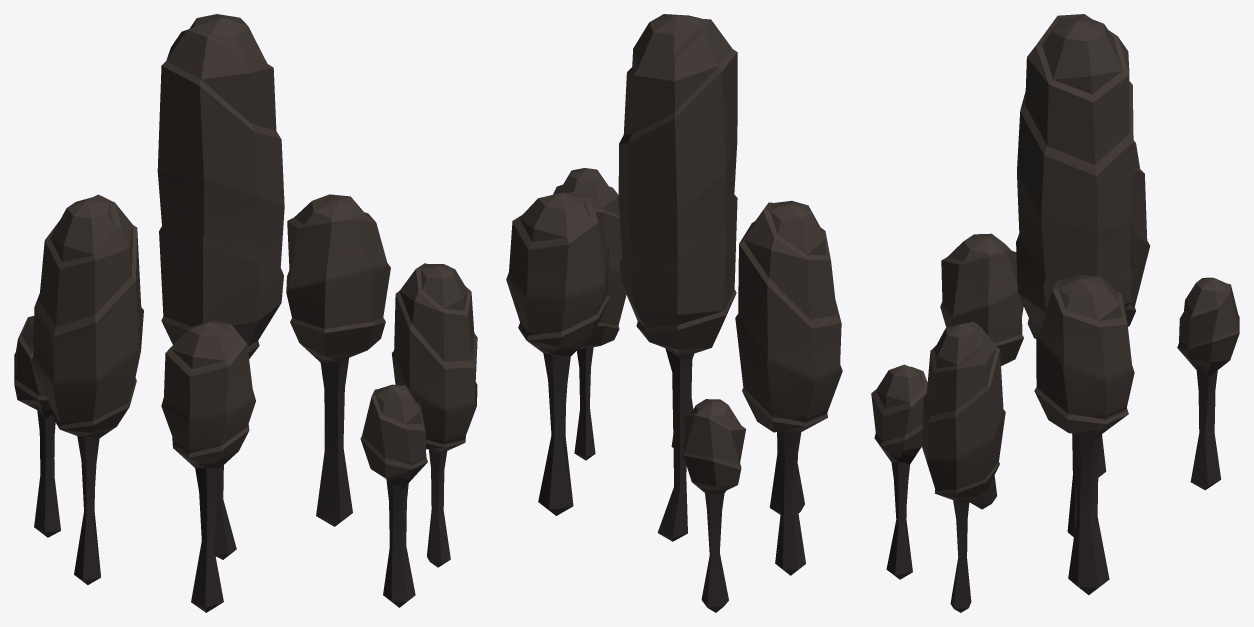
The model's file is worlds_SM_Env_Plant_Large_Spiral_Preset_03.gltf.
The picture shows the model from 3 angles, left to right: view 1: azimuth 30°, elevation 25°; view 2: azimuth 150°, elevation 25°; view 3: azimuth 270°, elevation 25°; orthographic projection. The views are drawn at different scales.
Parts seen in each view (by area): view 1: SM_Env_Plant_Large_Spiral_Preset_03; view 2: SM_Env_Plant_Large_Spiral_Preset_03; view 3: SM_Env_Plant_Large_Spiral_Preset_03.
Boxes of the visible parts, x1,y1,x2,y2 form: SM_Env_Plant_Large_Spiral_Preset_03: (14, 14, 477, 612); SM_Env_Plant_Large_Spiral_Preset_03: (506, 14, 842, 612); SM_Env_Plant_Large_Spiral_Preset_03: (871, 14, 1239, 612).
Bounding box in the file's own units: 19.42 × 27.85 × 17.89.
Materials: 1 (1 with a texture image).
